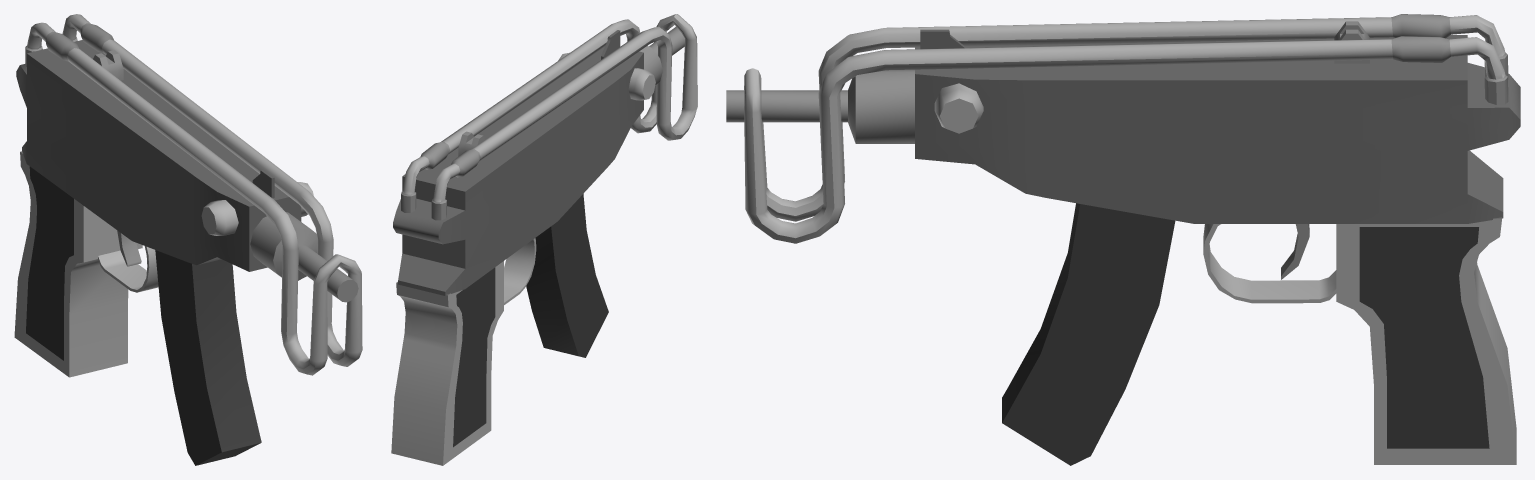
The model's file is 06-Micro-SMG.glb.
3 renders of one model, left to right at view 1: azimuth 30°, elevation 25°; view 2: azimuth 150°, elevation 25°; view 3: azimuth 270°, elevation 25°, orthographic. The views are drawn at different scales.
Visible parts, largest first — view 1: Micro SMG; view 2: Micro SMG; view 3: Micro SMG.
Boxes of the visible parts, x1,y1,x2,y2 form: Micro SMG: [14, 14, 362, 465]; Micro SMG: [391, 14, 697, 465]; Micro SMG: [726, 14, 1520, 465].
Size of the model in its own units: 0.0893 by 0.2853 by 0.48.
1 material, 1 textured.
